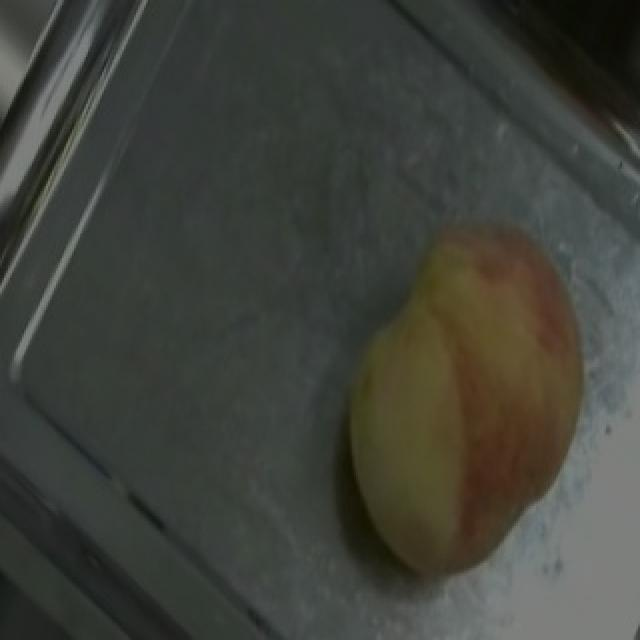Fruit: (306, 186, 634, 598)
